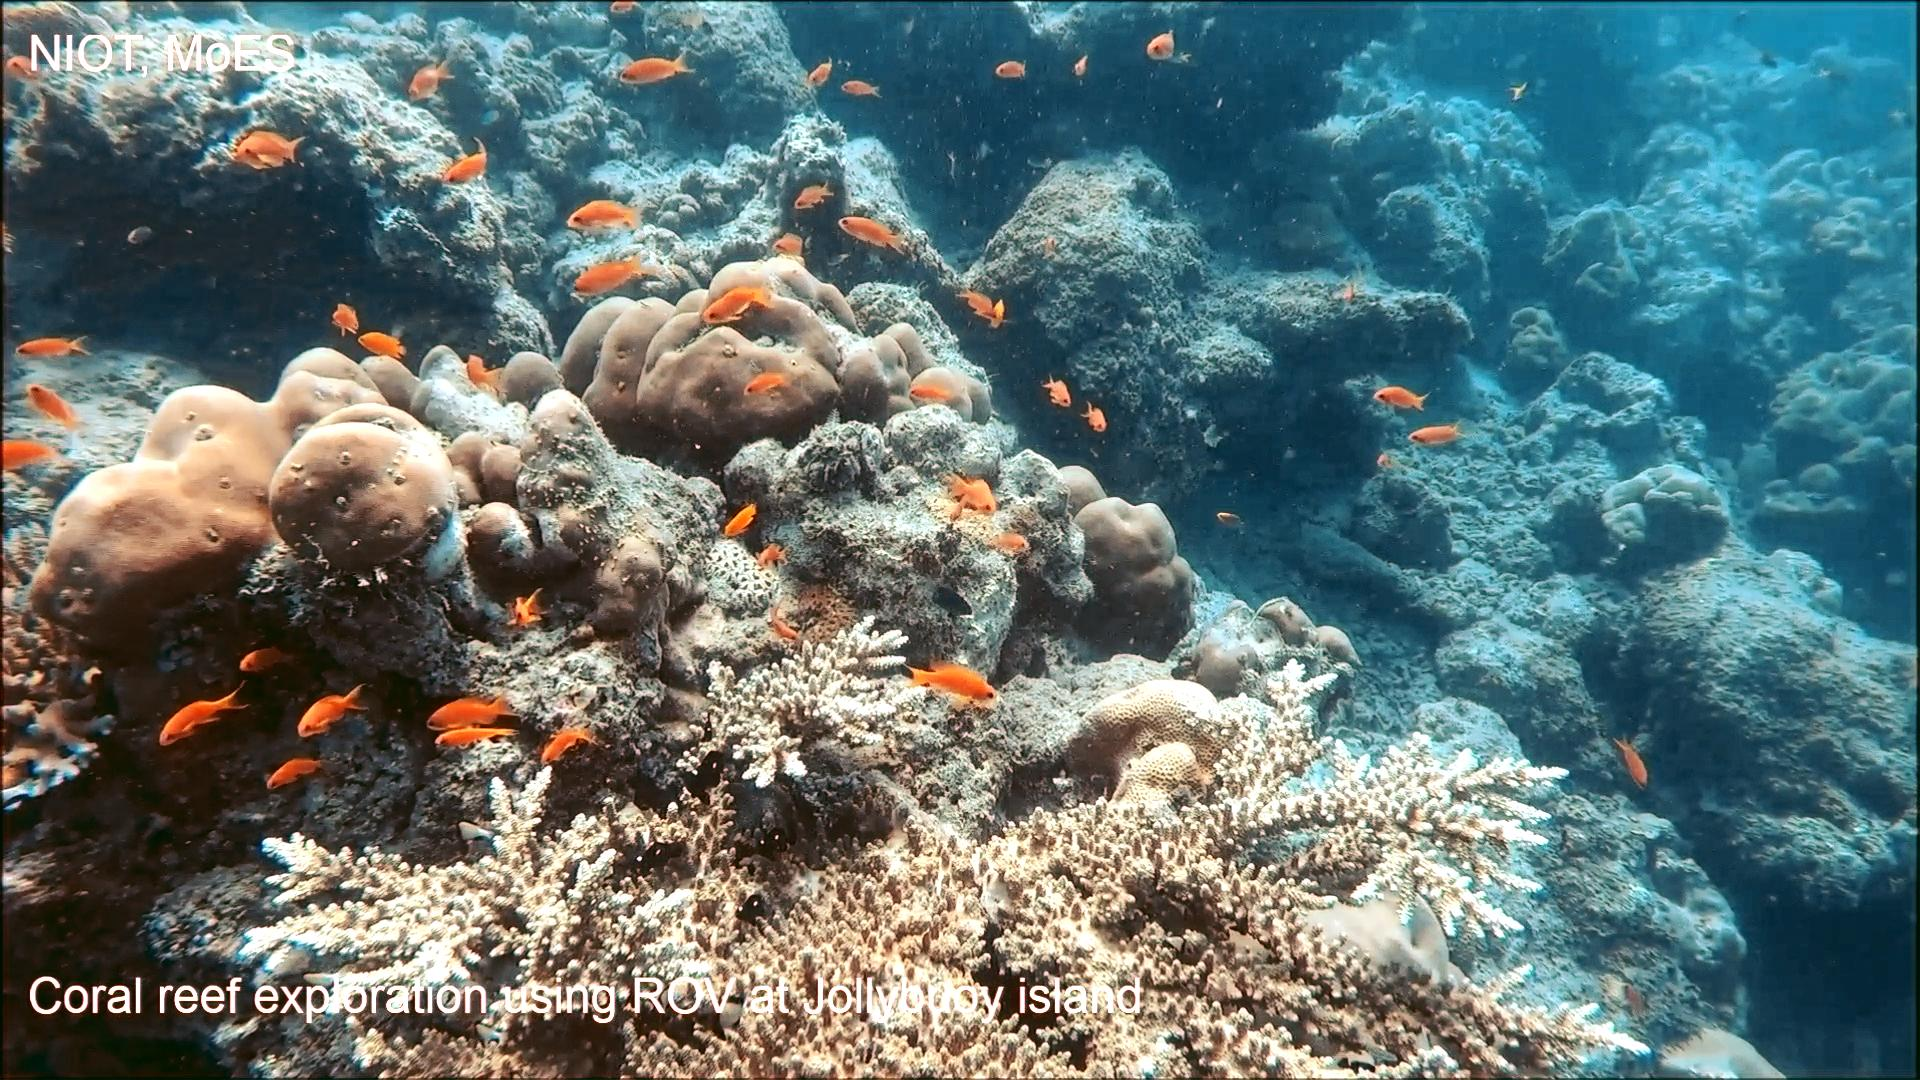Porites-Porites pukoensis: (24, 343, 460, 658), (527, 240, 1000, 463)
